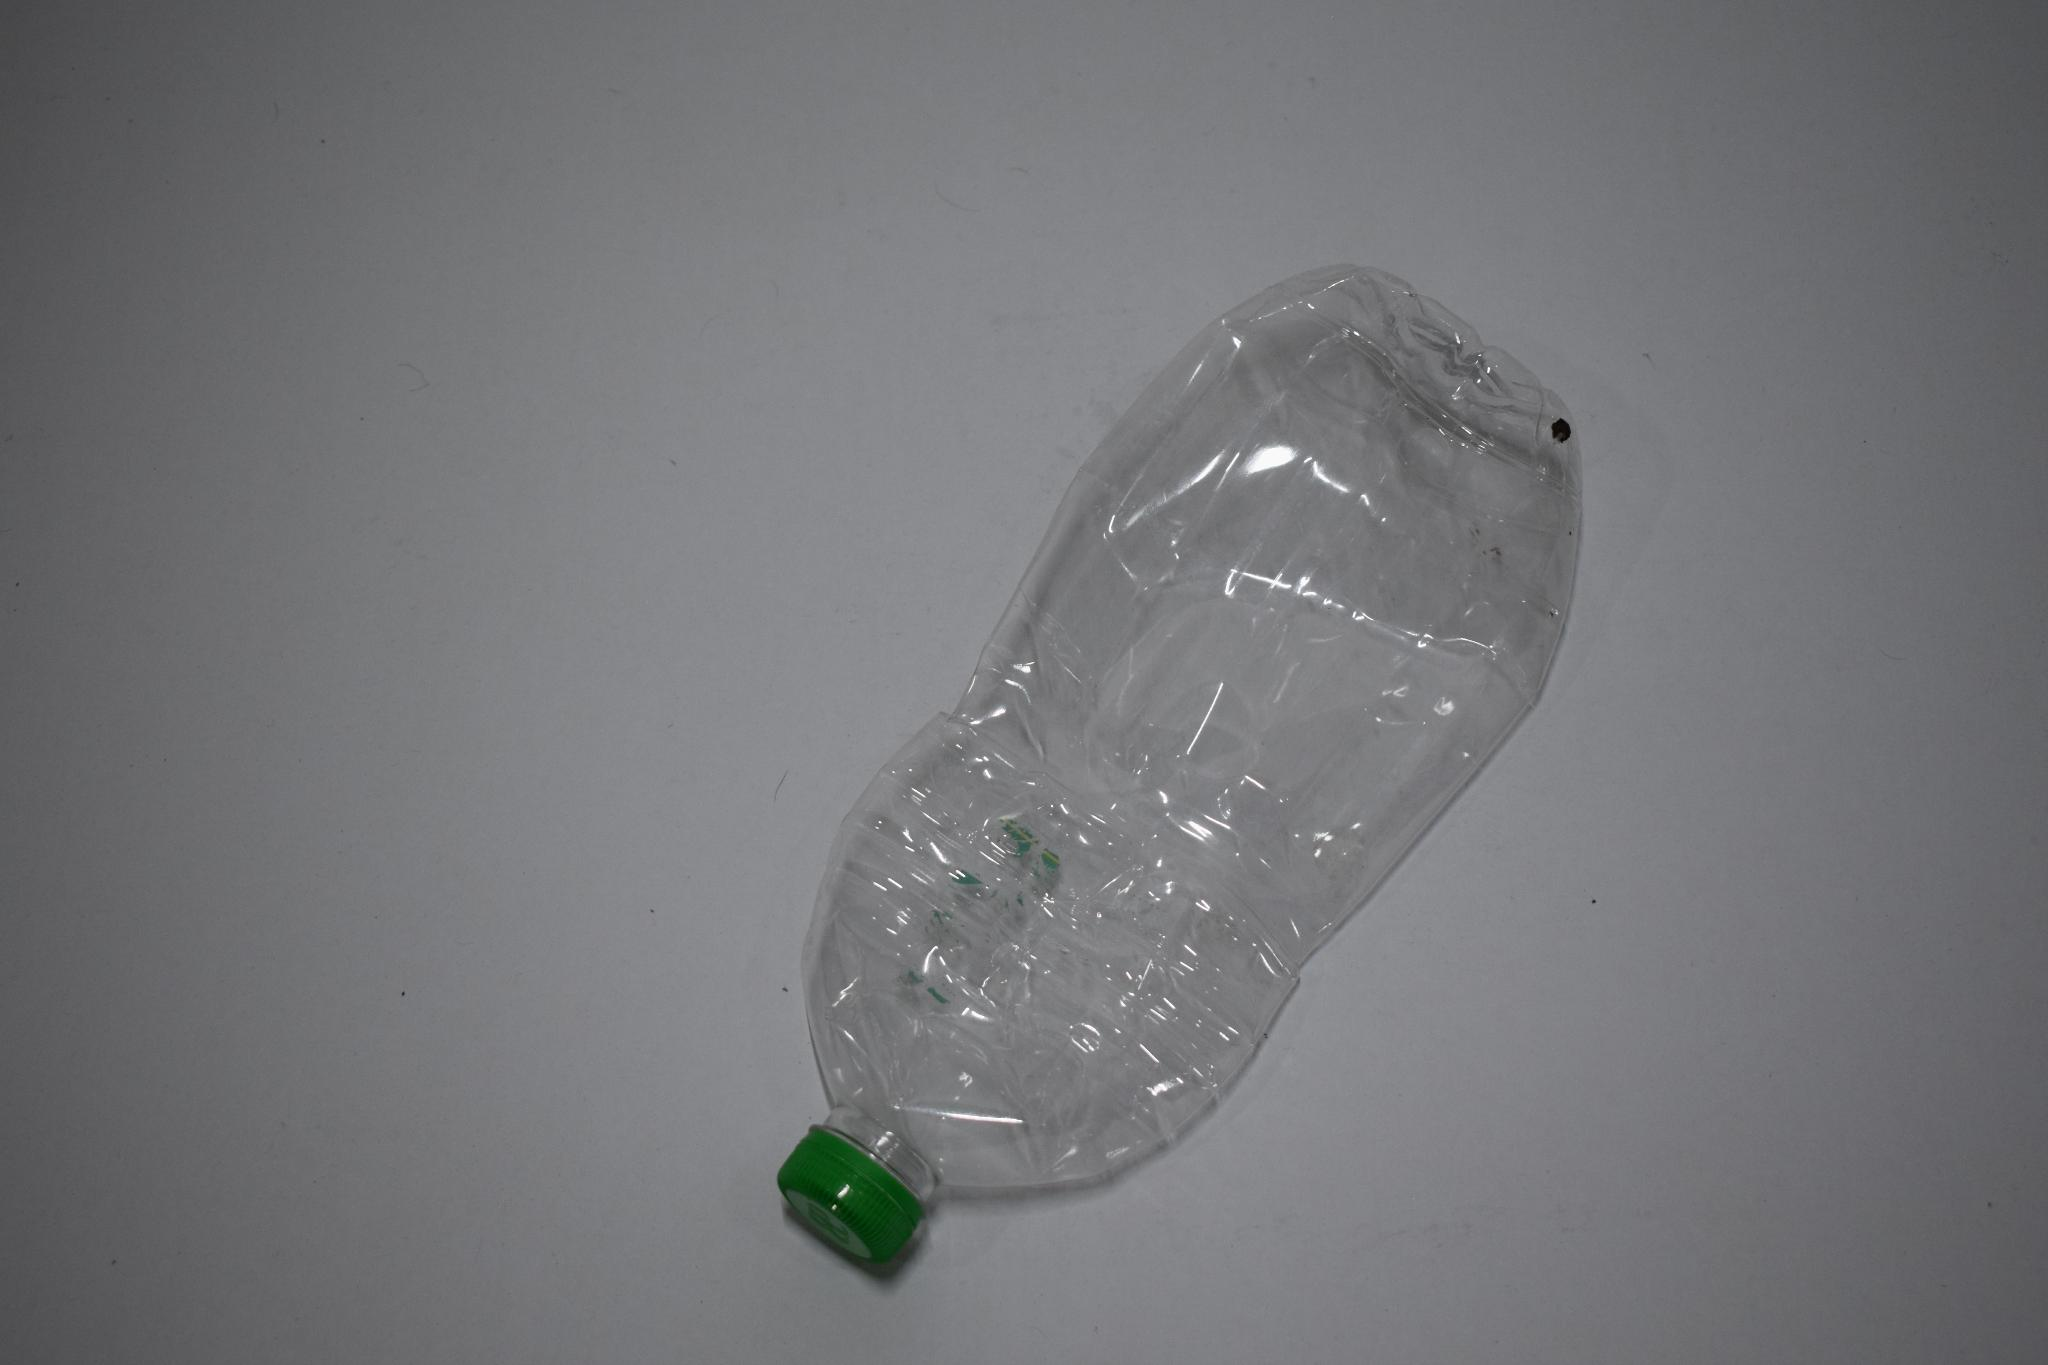bottle: (672, 237, 1614, 1307)
